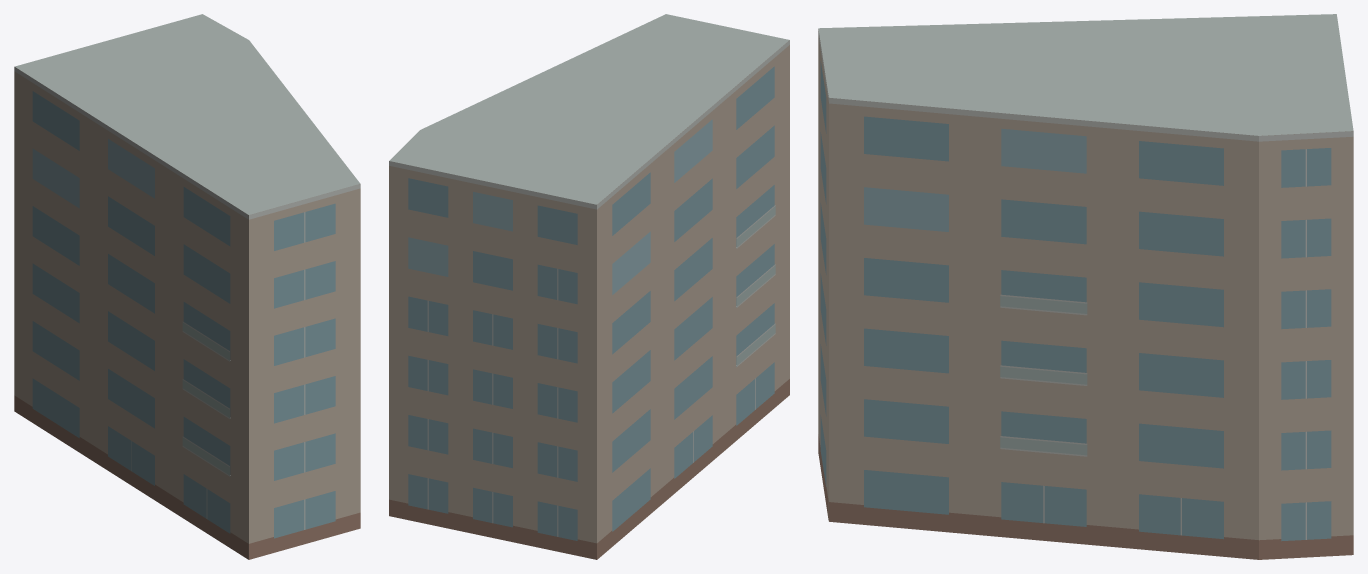
File: survey-upis-32870388.glb
The picture shows the model from 3 angles, left to right: view 1: azimuth 30°, elevation 25°; view 2: azimuth 150°, elevation 25°; view 3: azimuth 270°, elevation 25°; orthographic projection. The views are drawn at different scales.
Visible parts, largest first — view 1: survey-upis-32870388.tmp; view 2: survey-upis-32870388.tmp; view 3: survey-upis-32870388.tmp.
Boxes of the visible parts, x1,y1,x2,y2 form: survey-upis-32870388.tmp: (14,14,360,559); survey-upis-32870388.tmp: (389,14,789,559); survey-upis-32870388.tmp: (818,14,1353,559).
Bounding box in the file's own units: 11.11 × 18 × 20.61.
